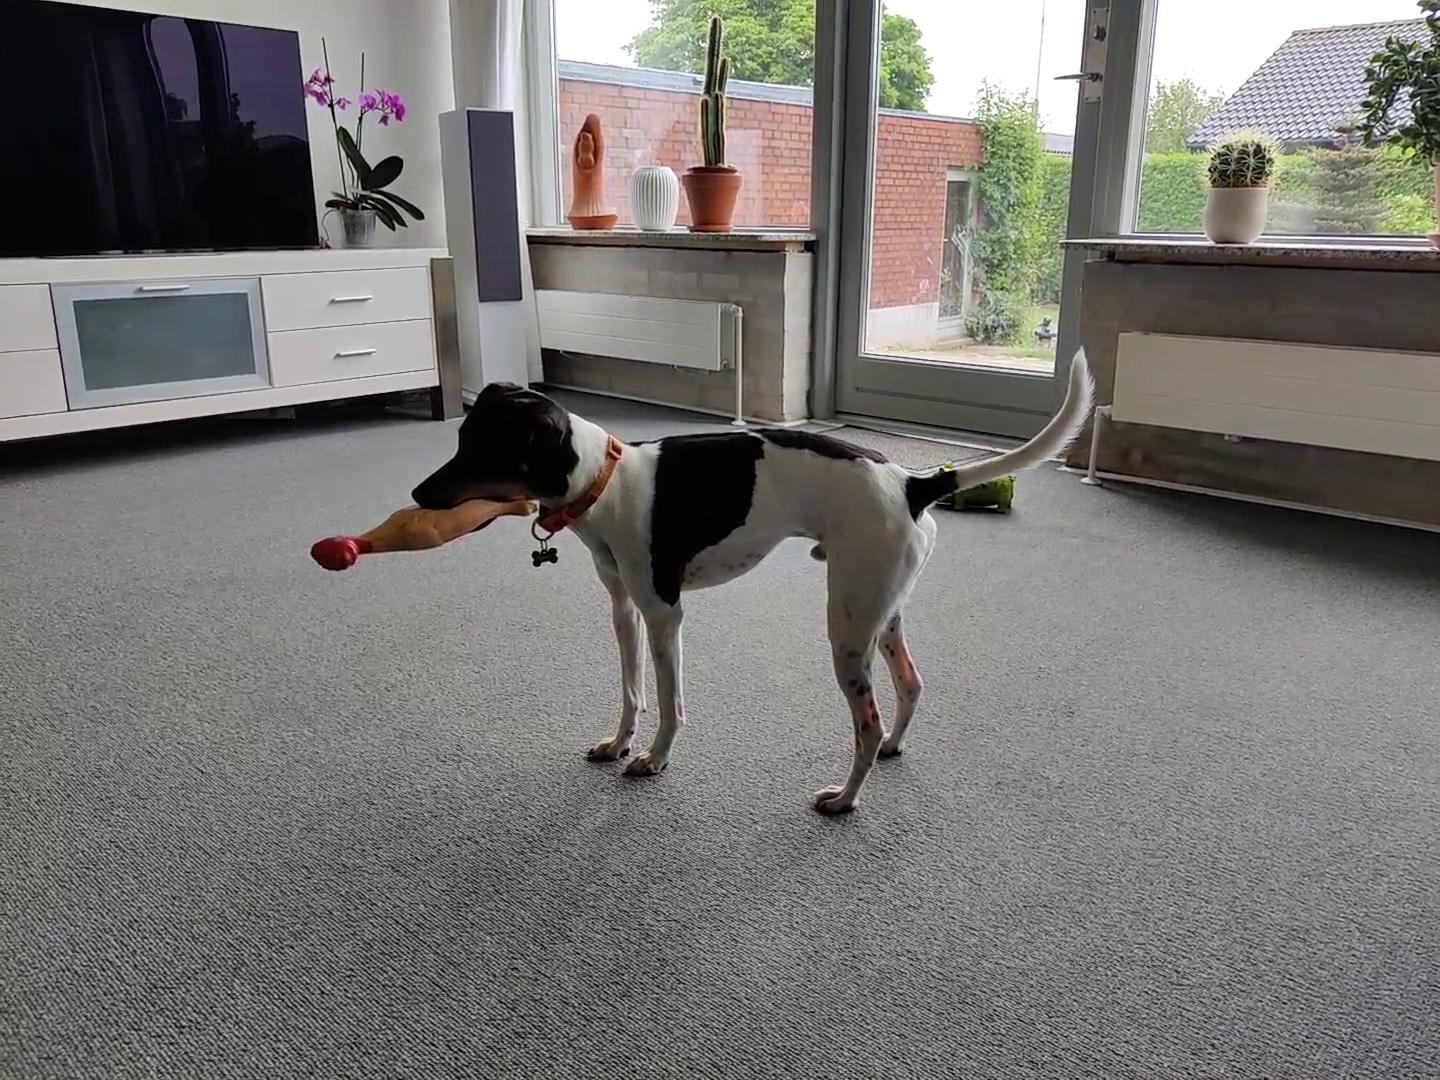Dog: (408, 344, 1093, 816)
